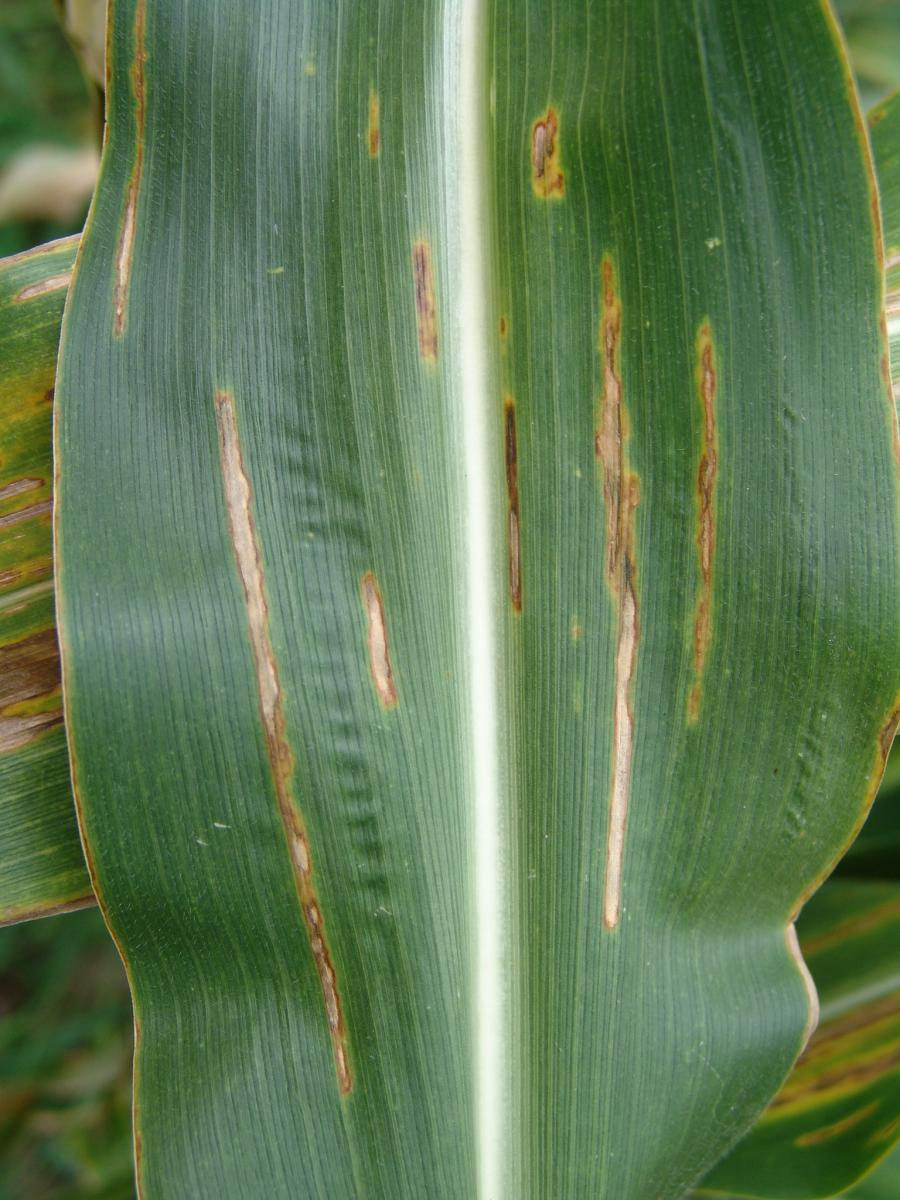Corn leaf blight: (76, 5, 889, 1200)
